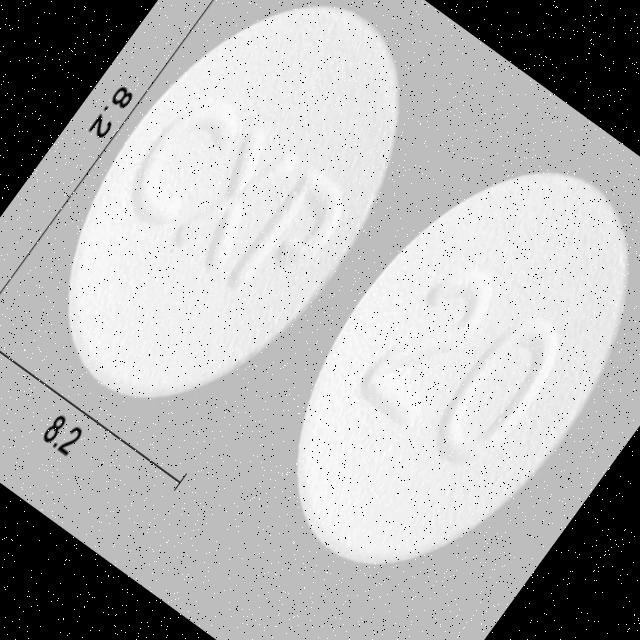Clafacin: (1, 0, 469, 458), (230, 115, 640, 622)
